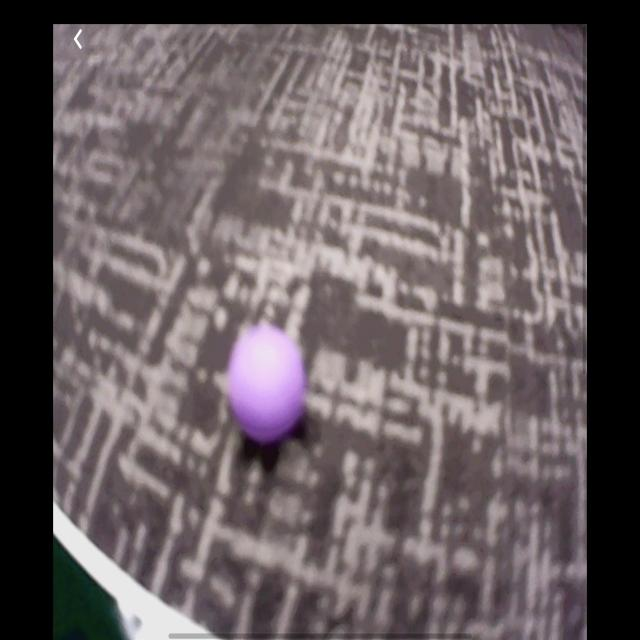ball: (228, 326, 306, 443)
